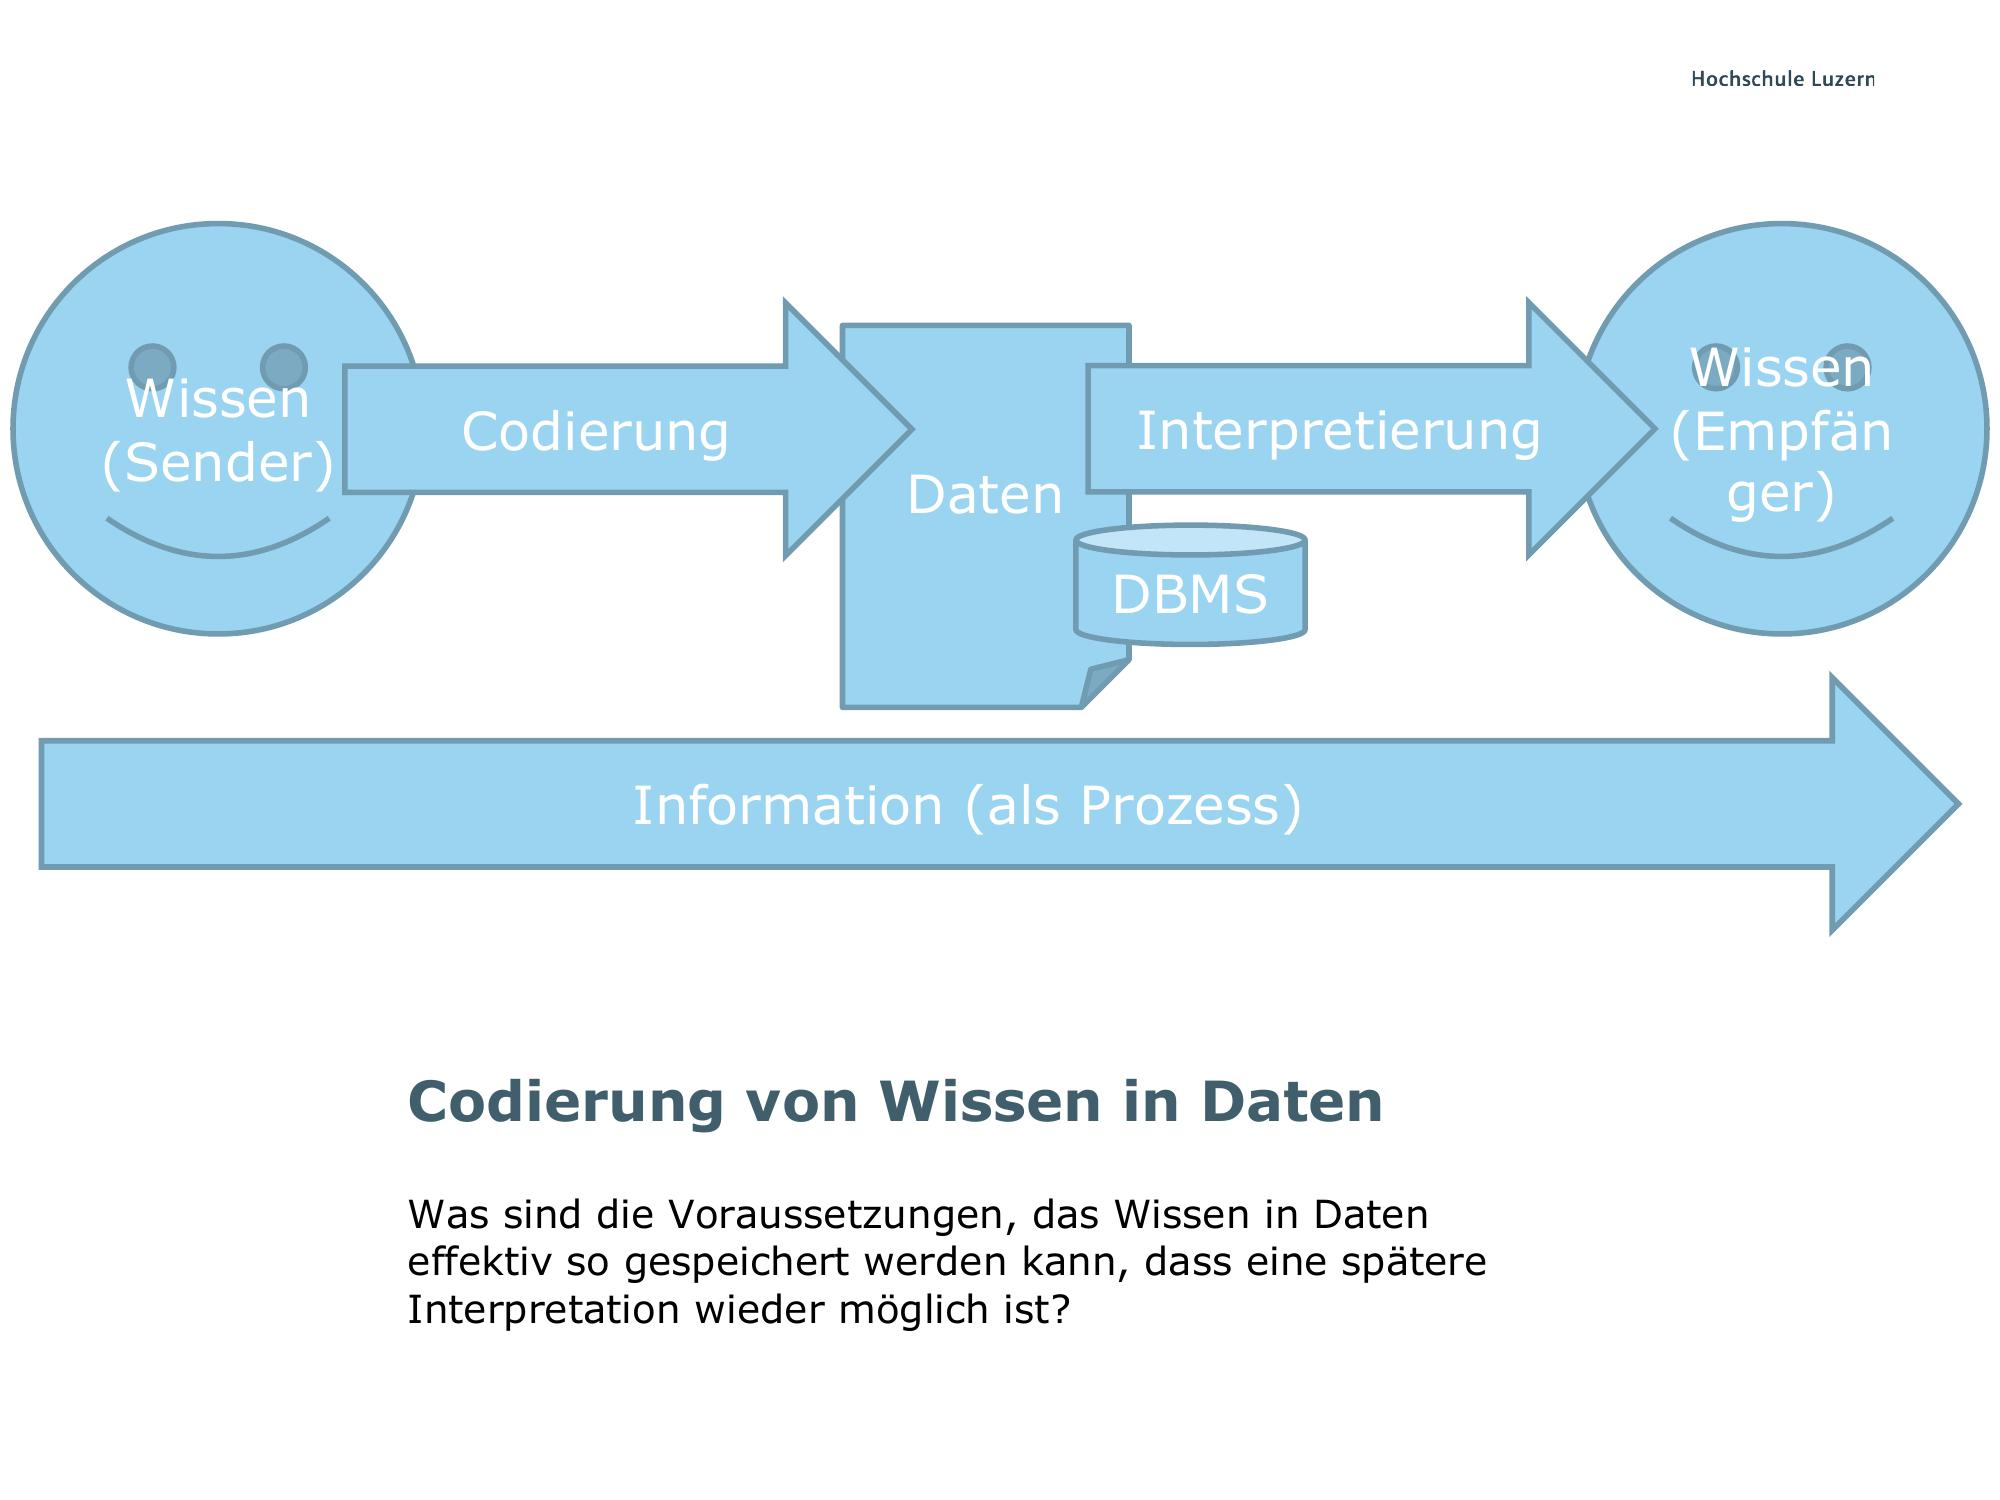Title: (362, 1064, 1395, 1153)
